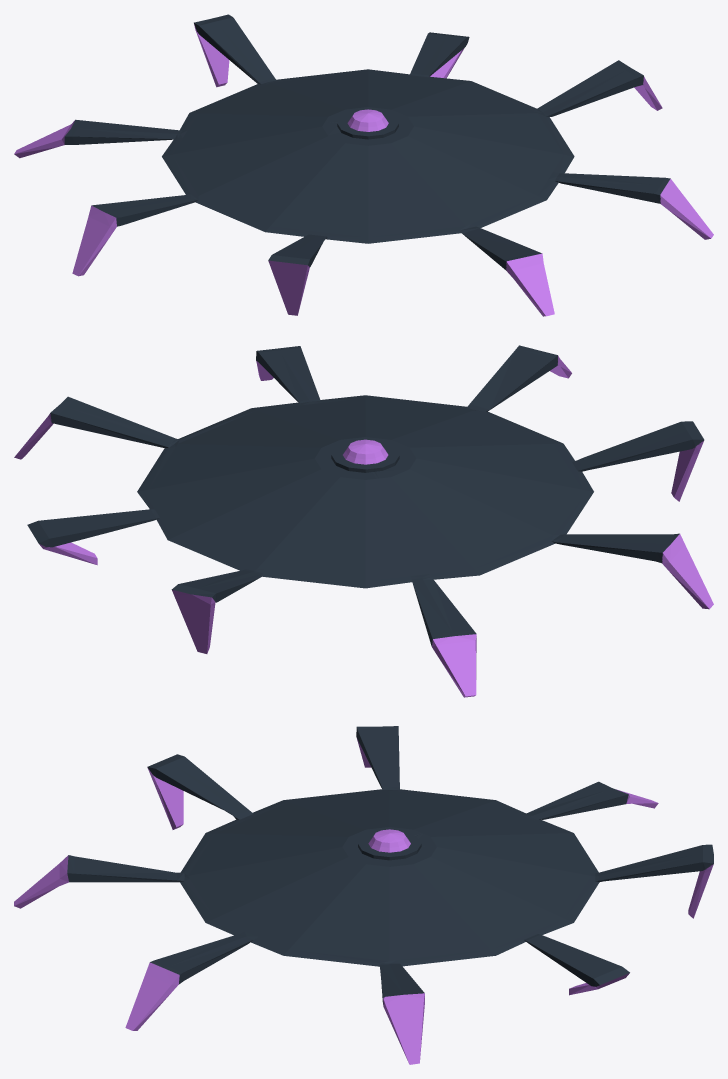
Rendered from Spider_Walk_000021.obj.
3 renders of one model, top to bottom at view 1: azimuth 30°, elevation 25°; view 2: azimuth 150°, elevation 25°; view 3: azimuth 270°, elevation 25°, orthographic. The views are drawn at different scales.
Parts seen in each view (by area): view 1: Circle_Circle.001; view 2: Circle_Circle.001; view 3: Circle_Circle.001.
Boxes of the visible parts, left/top/right/bottom form: Circle_Circle.001: left=14, top=14, right=713, bottom=316; Circle_Circle.001: left=14, top=345, right=713, bottom=697; Circle_Circle.001: left=14, top=726, right=713, bottom=1064.
Size of the model in its own units: 3.4 by 0.4584 by 3.29.
